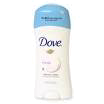grozi_45: (31, 2, 74, 103)
